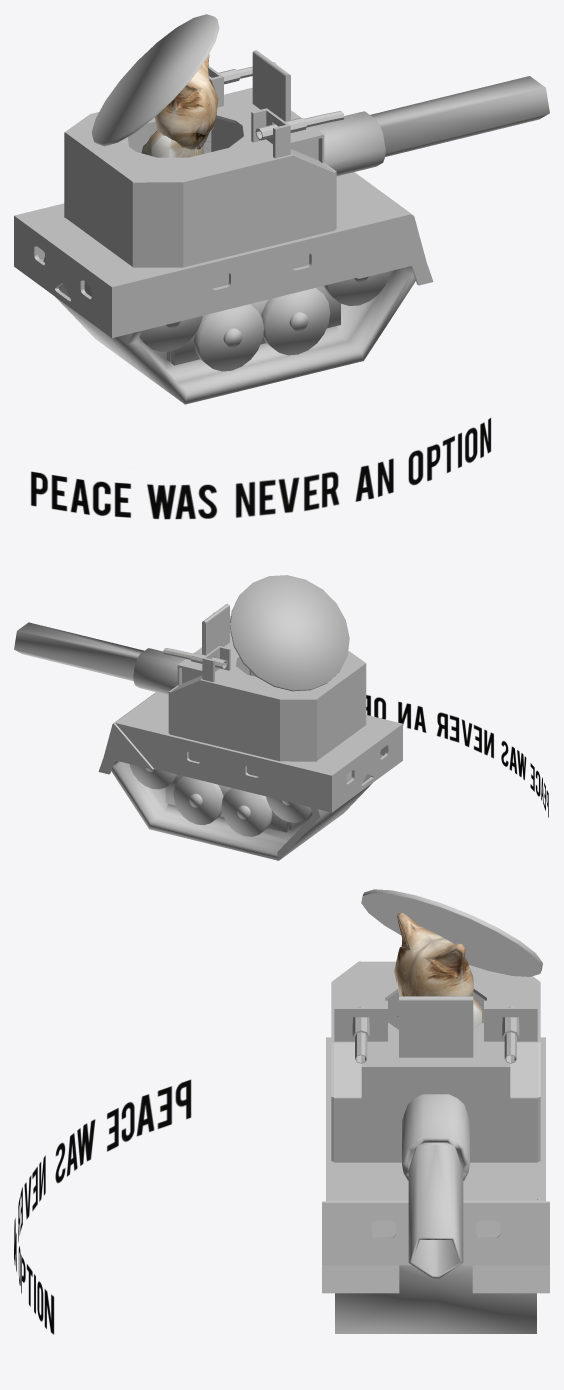
3 renders of one model, top to bottom at view 1: azimuth 30°, elevation 25°; view 2: azimuth 150°, elevation 25°; view 3: azimuth 270°, elevation 25°, orthographic. The views are drawn at different scales.
Parts seen in each view (by area): view 1: tank, Cylinder, cover, CatHead, interior, CatBody; view 2: tank, cover, Cylinder; view 3: tank, cover, Cylinder, CatHead.
Boxes of the visible parts, <box> form: tank: <box>14,50,549,404</box>; Cylinder: <box>31,417,491,519</box>; cover: <box>91,14,219,146</box>; CatHead: <box>155,54,218,155</box>; interior: <box>128,118,243,153</box>; CatBody: <box>141,130,203,157</box>; tank: <box>14,603,402,860</box>; cover: <box>230,575,349,691</box>; Cylinder: <box>366,695,548,817</box>; tank: <box>322,961,549,1333</box>; cover: <box>361,889,542,976</box>; Cylinder: <box>14,1079,191,1334</box>; CatHead: <box>394,913,473,1016</box>.
Size of the model in its own units: 4.15 by 2.32 by 2.76.
